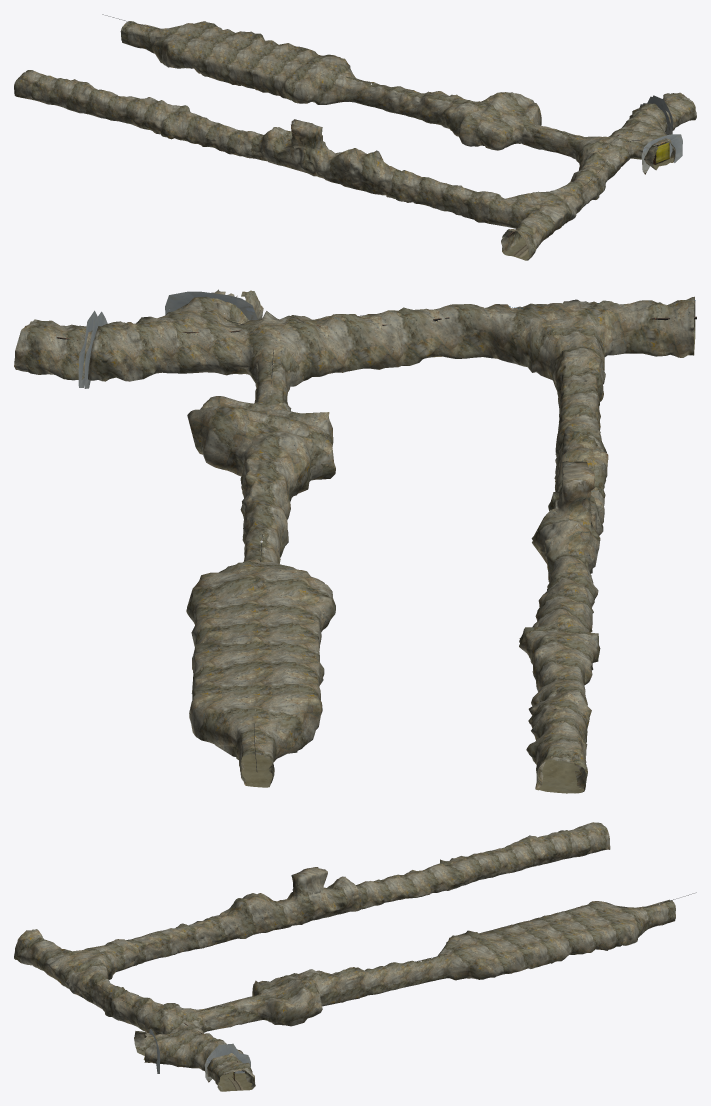
File: Edgar_Section_02.DAE
The picture shows the model from 3 angles, top to bottom: view 1: azimuth 30°, elevation 25°; view 2: azimuth 150°, elevation 25°; view 3: azimuth 270°, elevation 25°; orthographic projection. The views are drawn at different scales.
Visible parts, largest first — view 1: Section_02_Walls, Section_02_Doors; view 2: Section_02_Walls, Section_02_Ground, Section_02_Doors; view 3: Section_02_Walls, Section_02_Doors, Section_02_Ground.
Boxes of the visible parts, box(x1,y1,x2,y2) form: Section_02_Walls: box(14, 21, 696, 260); Section_02_Doors: box(640, 95, 682, 174); Section_02_Walls: box(14, 289, 695, 792); Section_02_Ground: box(113, 334, 695, 793); Section_02_Doors: box(78, 291, 257, 388); Section_02_Walls: box(14, 822, 675, 1091); Section_02_Doors: box(149, 1029, 250, 1082); Section_02_Ground: box(115, 910, 528, 1091).
Bounding box in the file's own units: 6173 × 665 × 7268.
7 materials, 7 textured.
